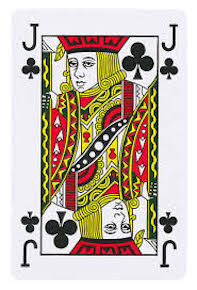JackOfClubs: (8, 4, 190, 285)
